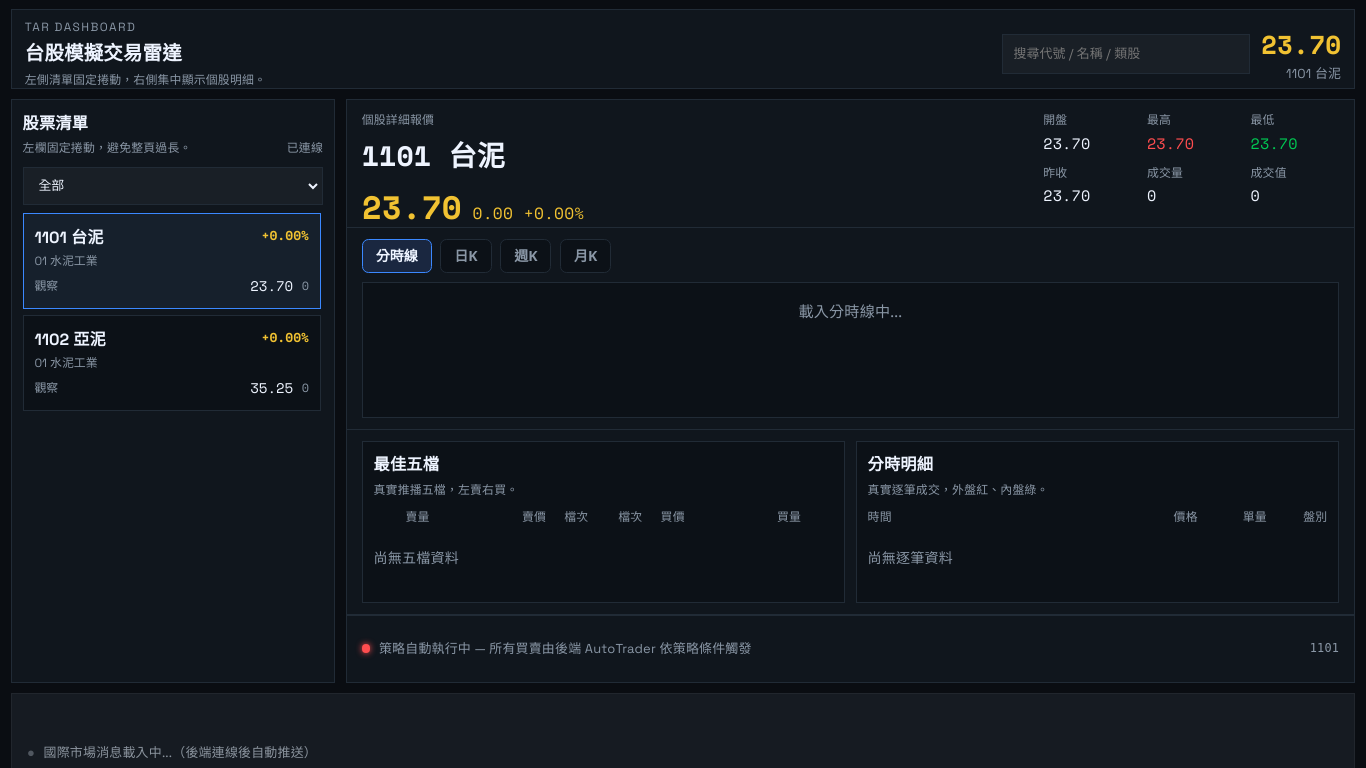
Test case: Dashboard › shows k-bar empty-state copy when there is no history data
Step 1. Click the button "日K" → (466, 256), box x1=440 y1=239 x2=492 y2=273
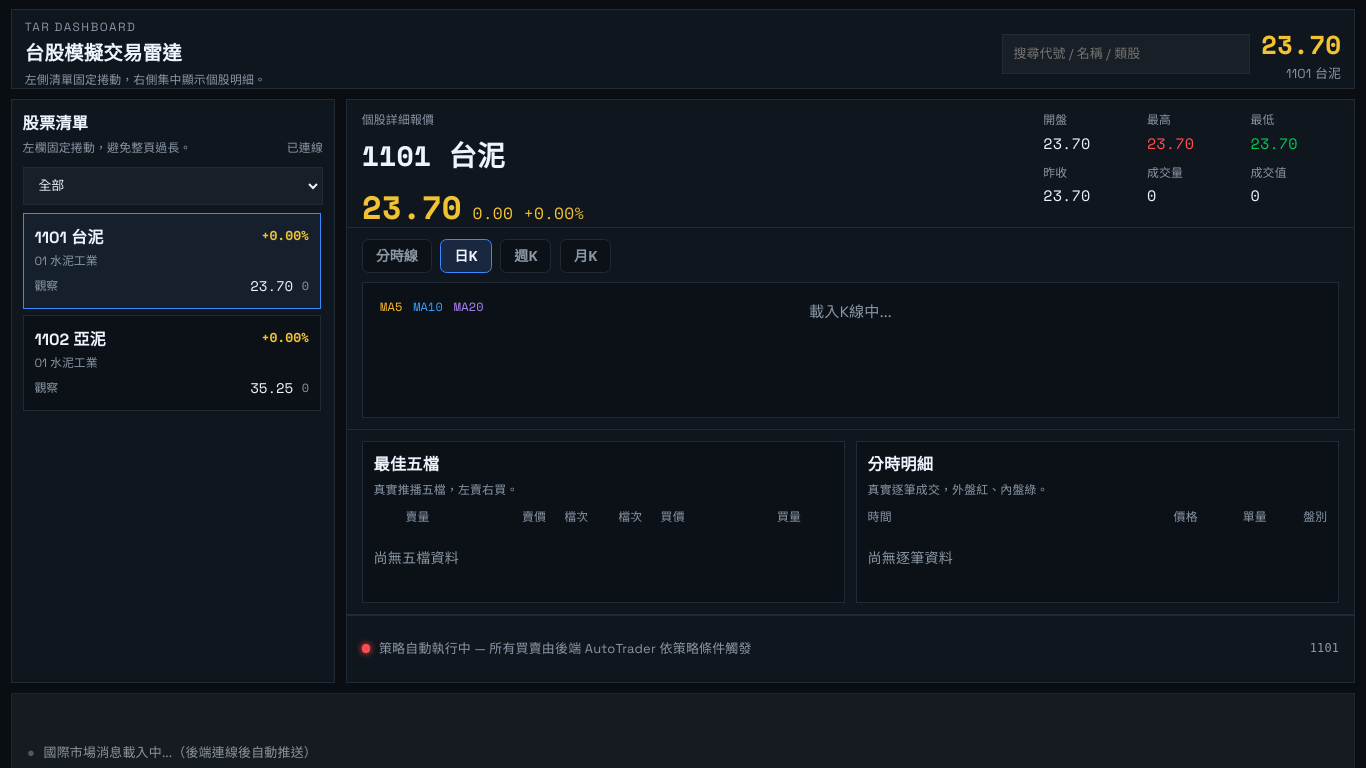
Result: the text "載入K線中..." is shown at x1=809 y1=302 x2=892 y2=321
